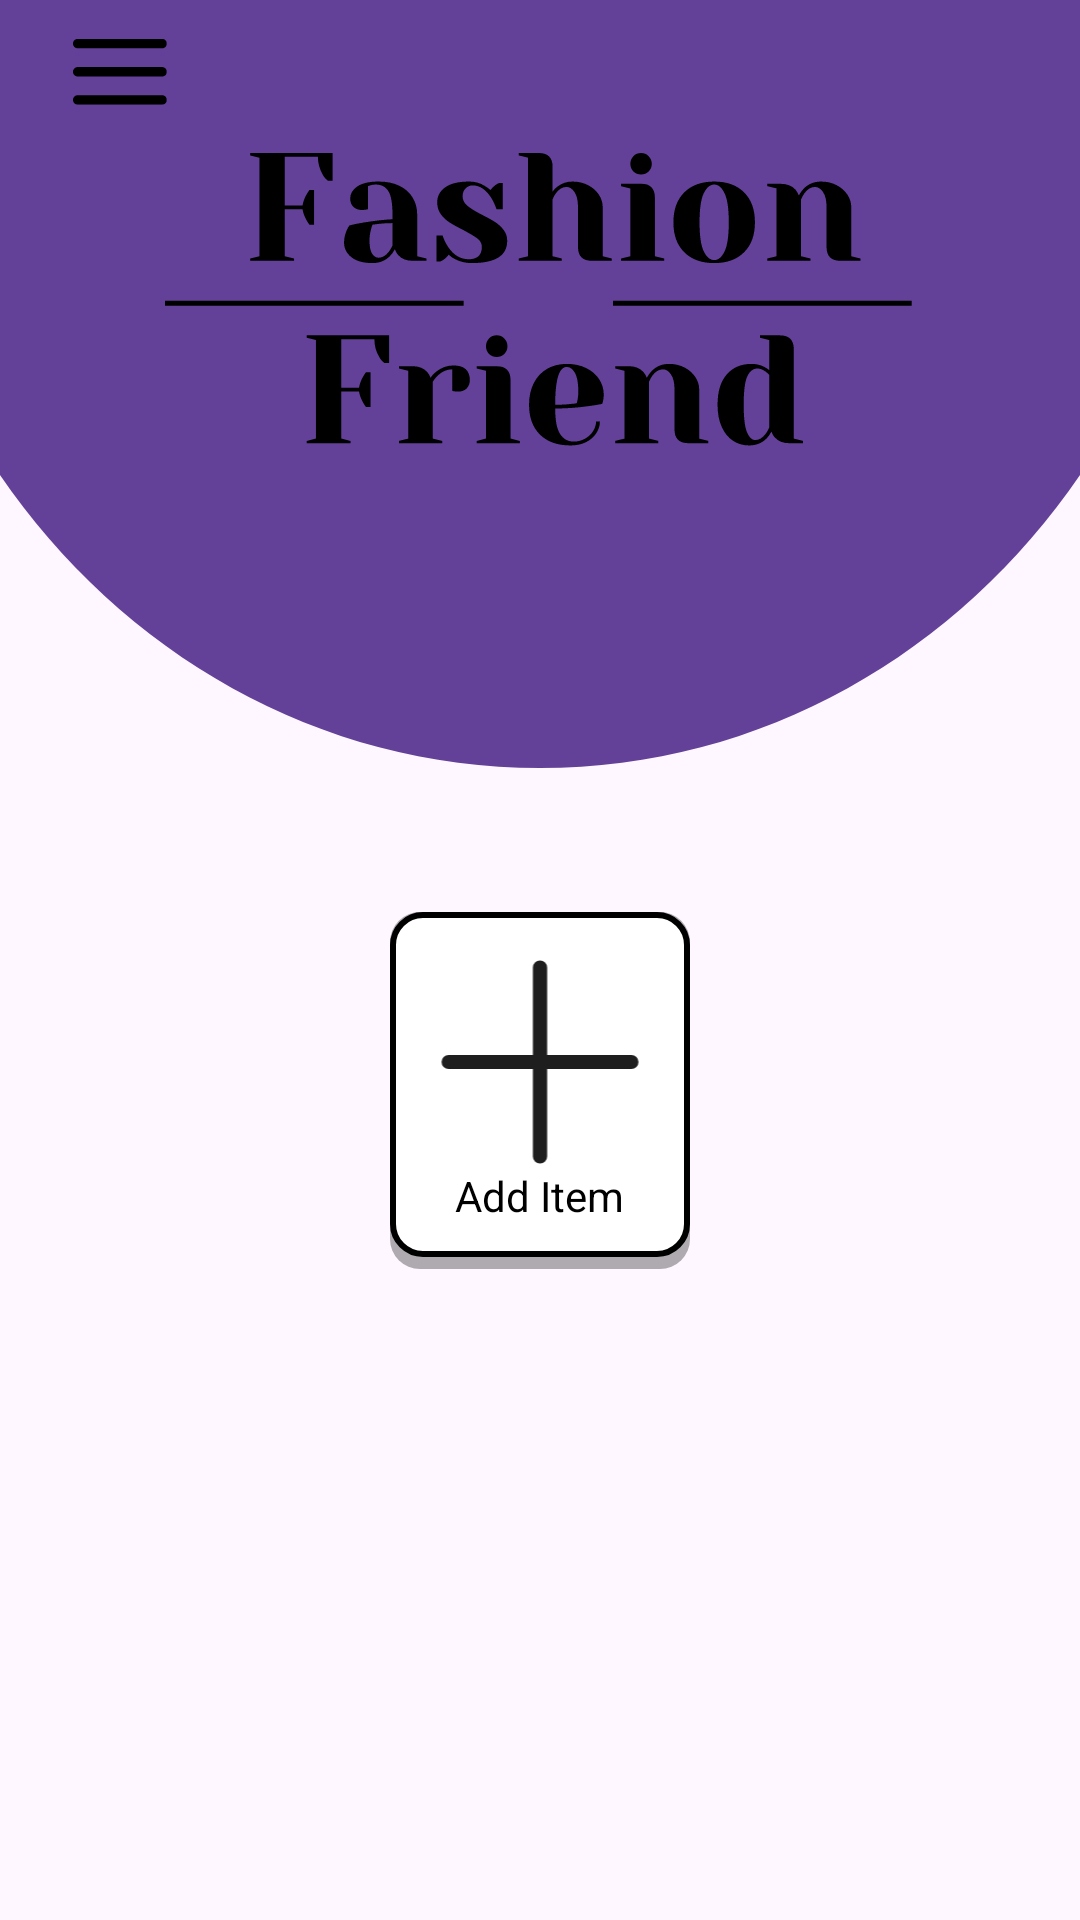

Point at icon controls on the screen. Image size 1080*1920, points as [x,y].
menu: [120,72]
plus: [540,1062]
